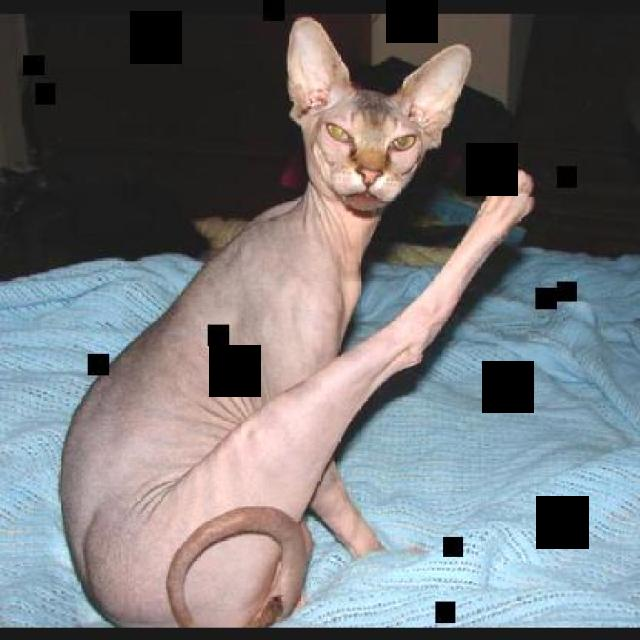unauthorized: (56, 16, 536, 626)
